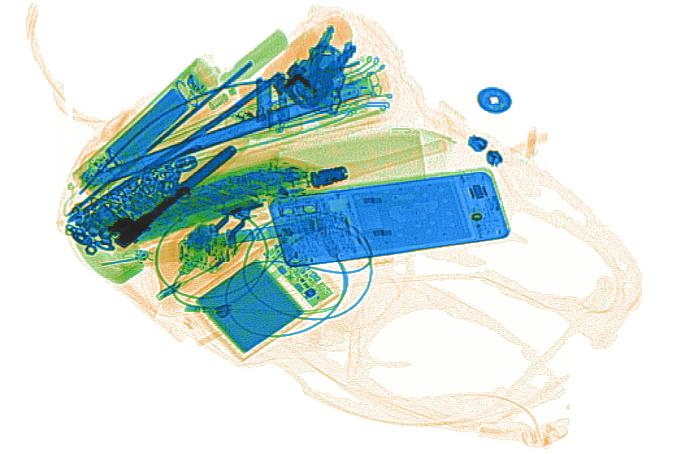battery: (102, 87, 190, 171), (190, 217, 254, 252), (255, 218, 314, 241)
